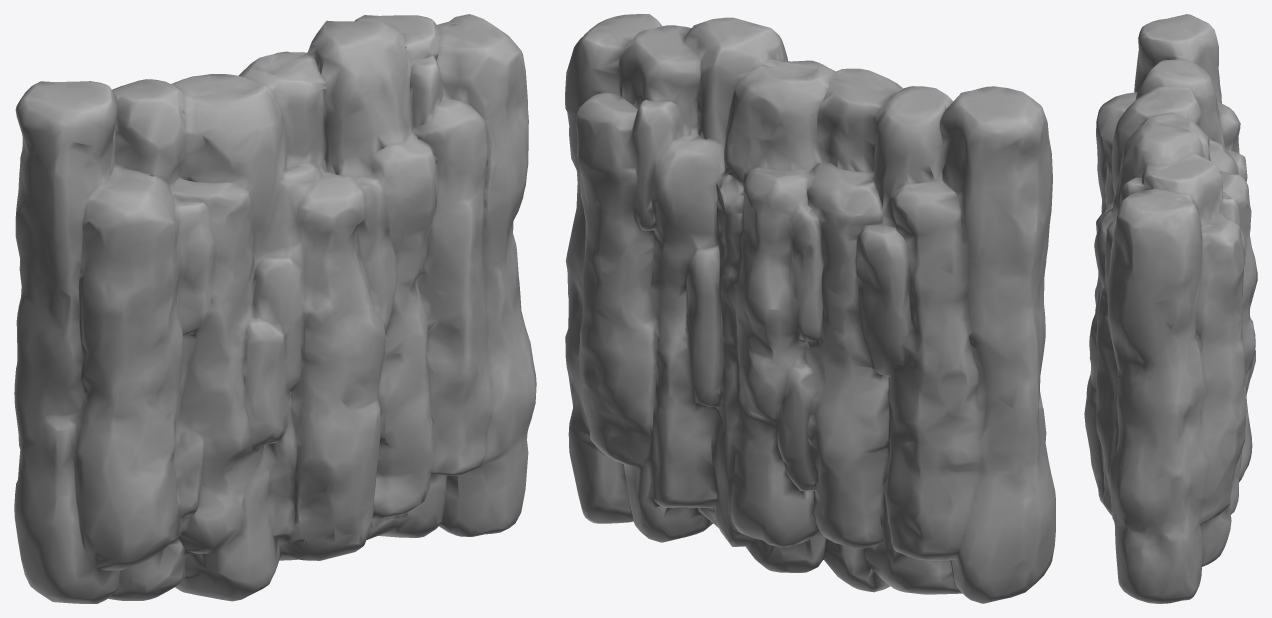
The model's file is tallWall_lod.fbx.
The picture shows the model from 3 angles, left to right: view 1: azimuth 30°, elevation 25°; view 2: azimuth 150°, elevation 25°; view 3: azimuth 270°, elevation 25°; orthographic projection. The views are drawn at different scales.
Visible parts, largest first — view 1: tallWall_LOD0; view 2: tallWall_LOD0; view 3: tallWall_LOD0.
Boxes of the visible parts, x1,y1,x2,y2 form: tallWall_LOD0: [14, 14, 536, 603]; tallWall_LOD0: [565, 14, 1055, 603]; tallWall_LOD0: [1084, 14, 1257, 603].
Size of what is drawn, in the model's own units: 2173 by 2223 by 831.
